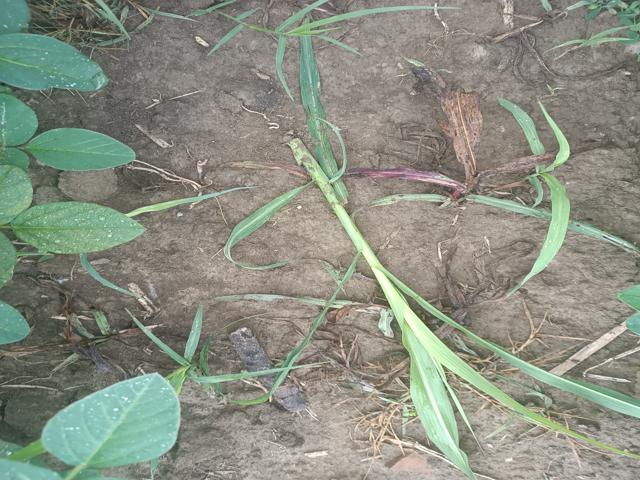bad weed: (241, 138, 500, 479), (380, 98, 597, 278), (115, 281, 234, 404)
